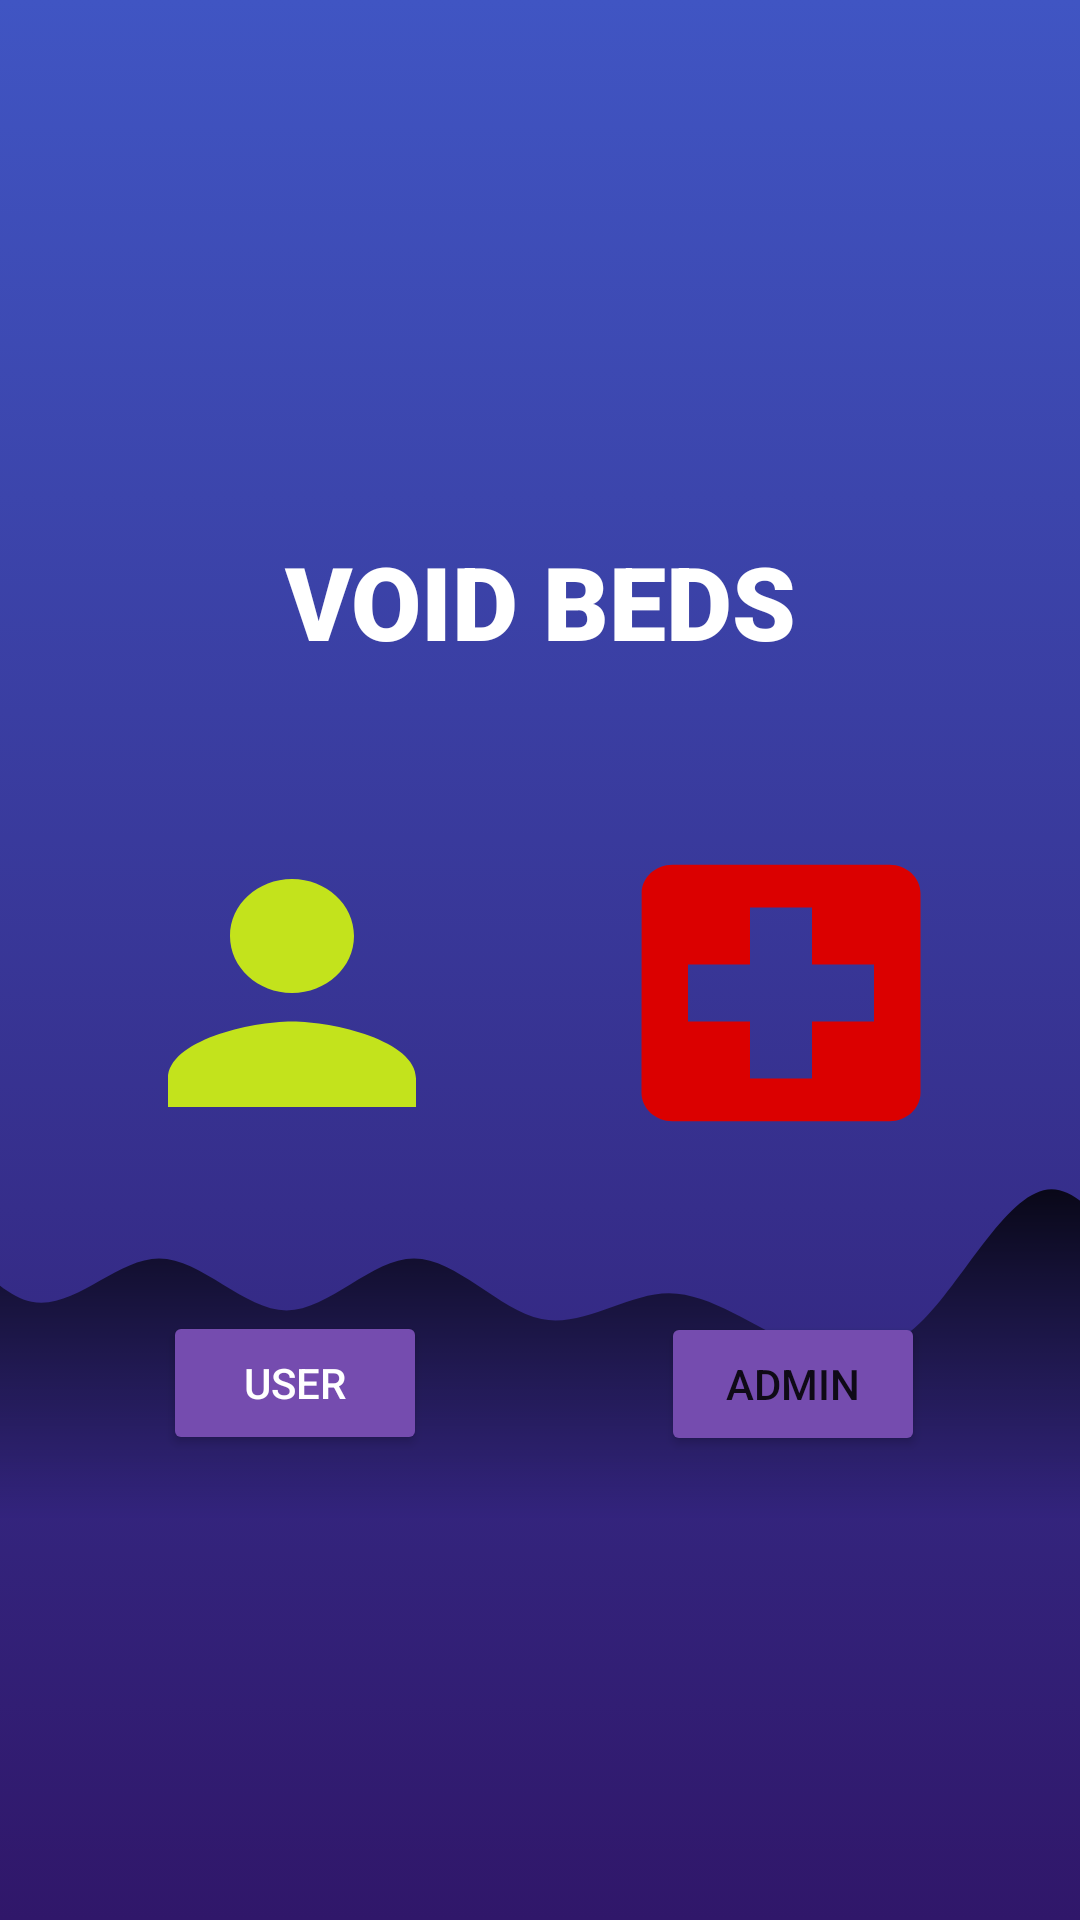

Where to tap for icons on this 1080x1920 app screen, as [x,y]:
local hospital: [781,993]
person: [292,993]
